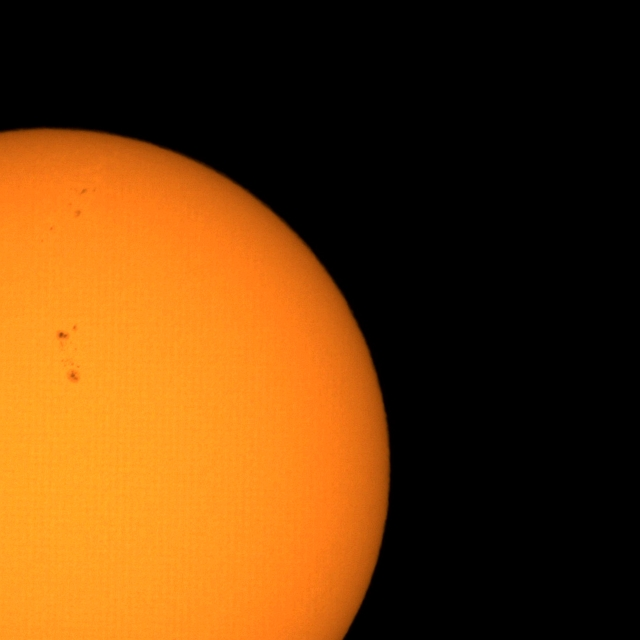sunspot: (60, 358, 82, 383), (56, 324, 78, 341), (78, 186, 98, 196), (56, 330, 70, 341), (73, 208, 82, 219), (71, 324, 78, 331), (49, 225, 54, 232)
